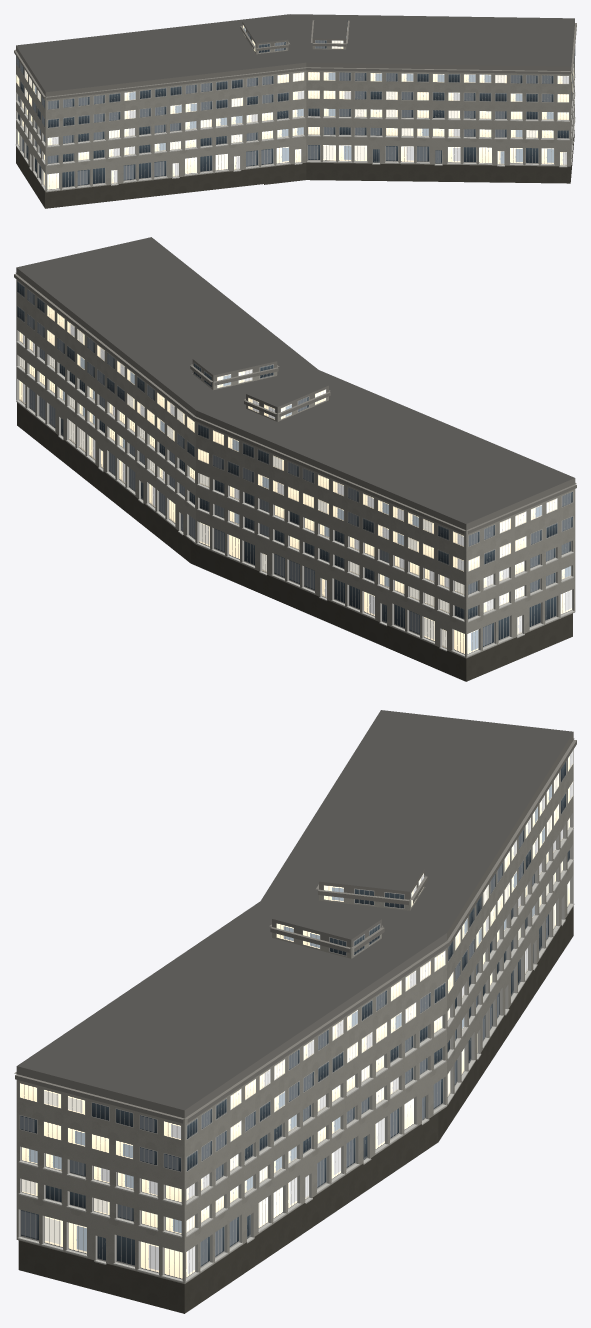
The model's file is sh_pfingstweid.glb.
3 views of the same model, one above another, from view 1: azimuth 30°, elevation 25°; view 2: azimuth 150°, elevation 25°; view 3: azimuth 270°, elevation 25° (orthographic). The views are drawn at different scales.
Visible parts, largest first — view 1: sh_pfingstweid; view 2: sh_pfingstweid; view 3: sh_pfingstweid.
Part boxes in pixels (x1=…): sh_pfingstweid: x1=14, y1=14, x2=576, y2=208; sh_pfingstweid: x1=14, y1=237, x2=576, y2=681; sh_pfingstweid: x1=14, y1=710, x2=576, y2=1313.
Bounding box in the file's own units: 86.04 × 22.18 × 50.81.
3 materials, 3 textured.
